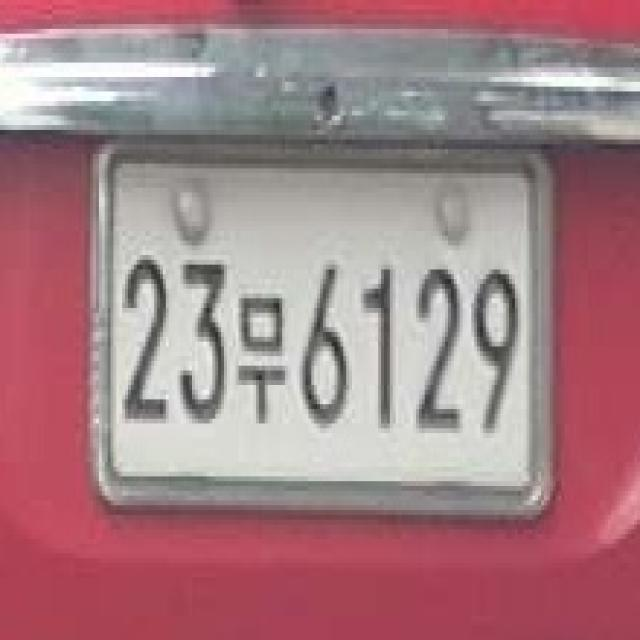1: (363, 243, 400, 441)
2: (409, 245, 468, 436), (116, 245, 170, 430)
3: (178, 245, 231, 430)
6: (301, 246, 354, 437)
9: (472, 238, 524, 442)
license_plate: (104, 146, 542, 507)
mu: (238, 281, 291, 430)
